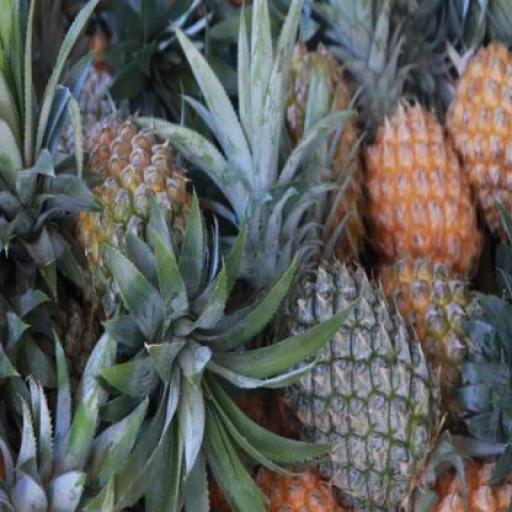------------------------------: (62, 114, 201, 325)
Pineapple - v8 v1: (364, 100, 478, 280)
